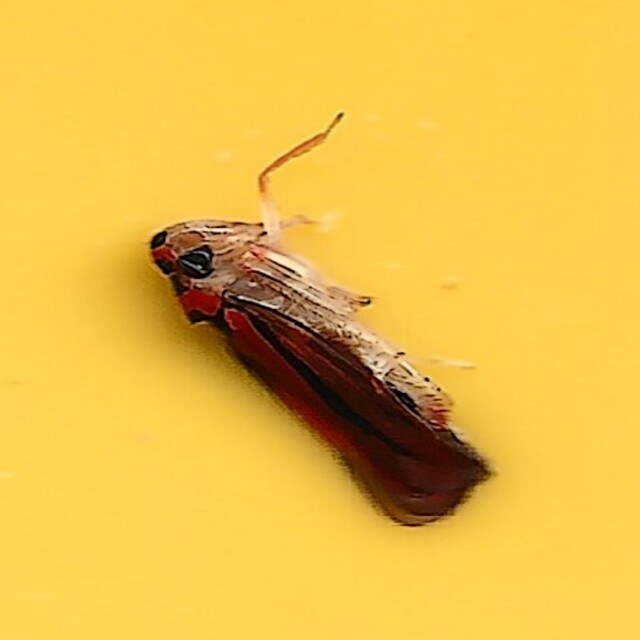Hemiptera: (145, 111, 495, 529)
